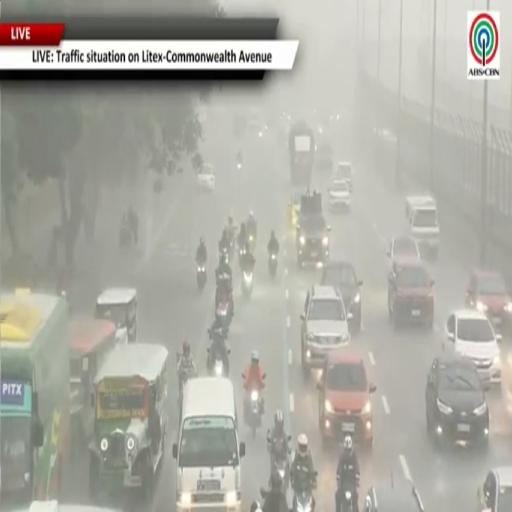bus: (0, 290, 70, 509)
car: (426, 354, 489, 446), (318, 350, 376, 446), (300, 285, 351, 376), (444, 309, 501, 385), (388, 260, 434, 328), (466, 269, 511, 333), (321, 261, 362, 331), (363, 476, 425, 511), (409, 203, 440, 259), (477, 466, 511, 511), (10, 501, 121, 511), (387, 236, 420, 262), (315, 132, 333, 172), (289, 188, 306, 230), (328, 180, 351, 211), (406, 195, 435, 219), (333, 162, 353, 191), (197, 164, 215, 190)
jeepney: (89, 344, 168, 504), (70, 318, 116, 456), (95, 288, 137, 343), (406, 196, 440, 259), (12, 501, 121, 511), (289, 187, 306, 233)
motorcycle: (267, 430, 290, 495), (207, 333, 230, 377), (245, 389, 262, 438), (336, 476, 357, 511), (292, 482, 314, 511), (178, 370, 193, 410), (216, 298, 232, 331), (178, 372, 190, 410), (241, 271, 253, 298), (119, 226, 132, 248), (228, 228, 236, 261), (197, 264, 206, 291), (268, 253, 277, 278), (219, 248, 230, 264), (239, 246, 246, 266), (248, 233, 255, 253), (237, 163, 242, 170)
truck: (296, 190, 330, 268), (289, 121, 315, 186)
